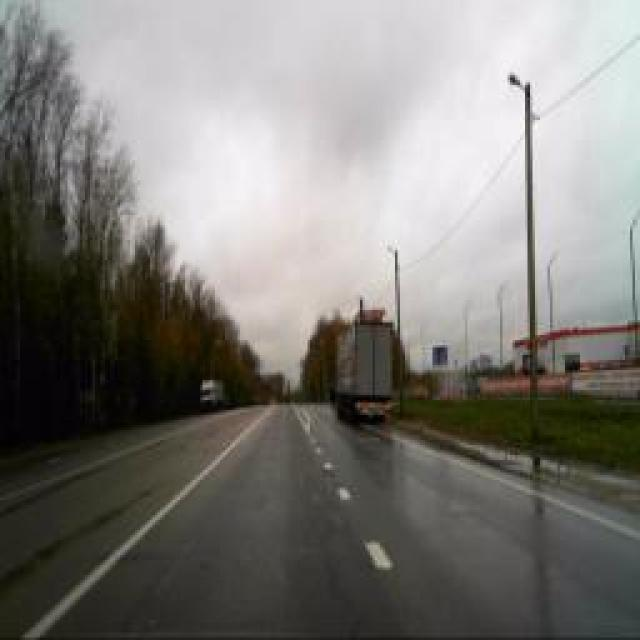sign: (431, 346, 449, 366)
